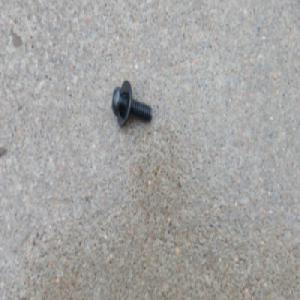BoltWasher: (113, 80, 154, 129)
